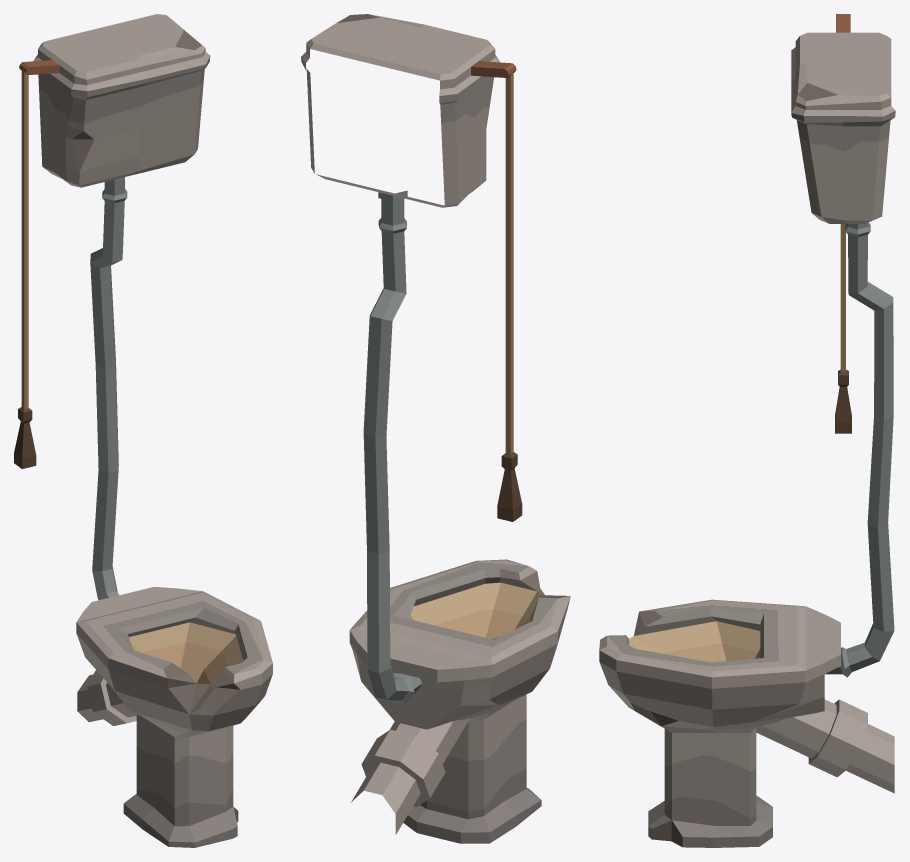
The model's file is SM_Toilet.gltf.
The picture shows the model from 3 angles, left to right: view 1: azimuth 30°, elevation 25°; view 2: azimuth 150°, elevation 25°; view 3: azimuth 270°, elevation 25°; orthographic projection. The views are drawn at different scales.
Visible parts, largest first — view 1: SM_Toilet; view 2: SM_Toilet; view 3: SM_Toilet.
Part boxes in pixels (<box>): SM_Toilet: <box>14,14,272,847</box>; SM_Toilet: <box>301,14,570,843</box>; SM_Toilet: <box>599,14,895,847</box>.
Bounding box in the file's own units: 0.7097 × 2.76 × 0.9703.
1 material, 1 textured.
